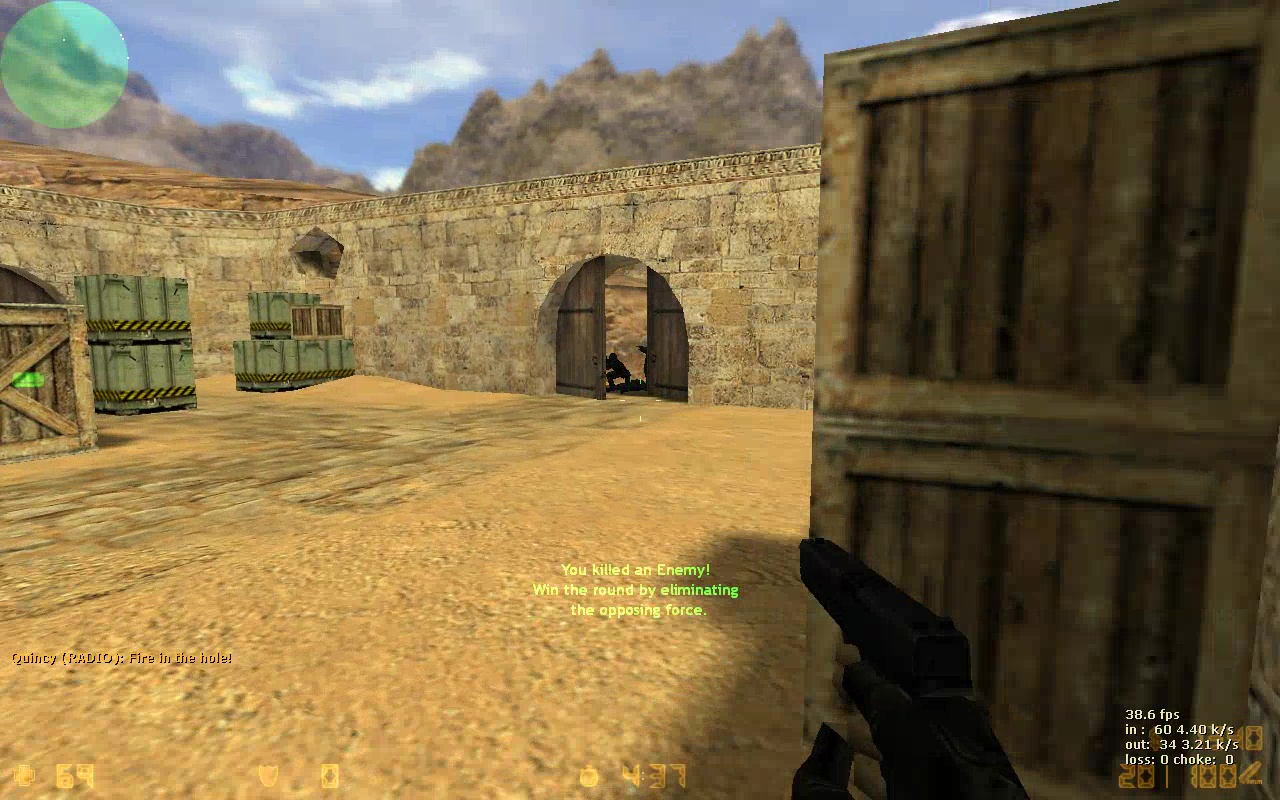ct: (603, 354, 633, 388)
